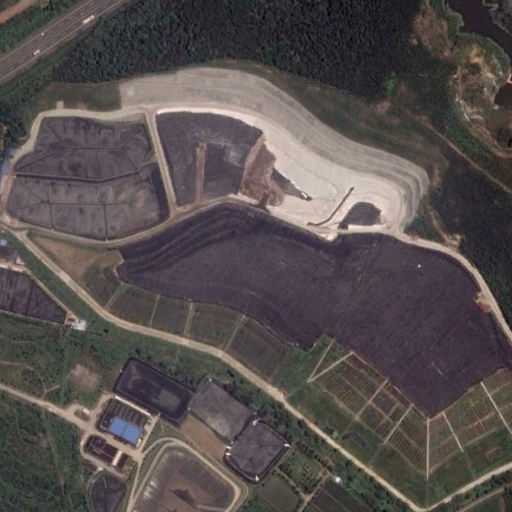lf: (117, 108, 512, 413)
